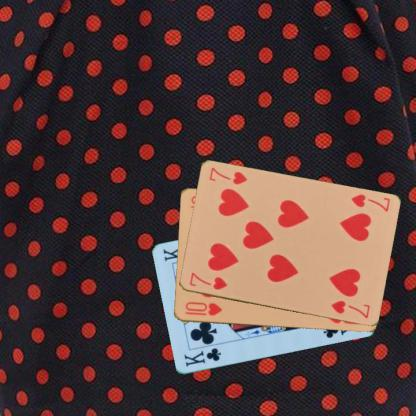10h: (182, 299, 223, 317)
7h: (348, 191, 392, 213), (186, 270, 228, 292)
Kc: (182, 346, 223, 368)
